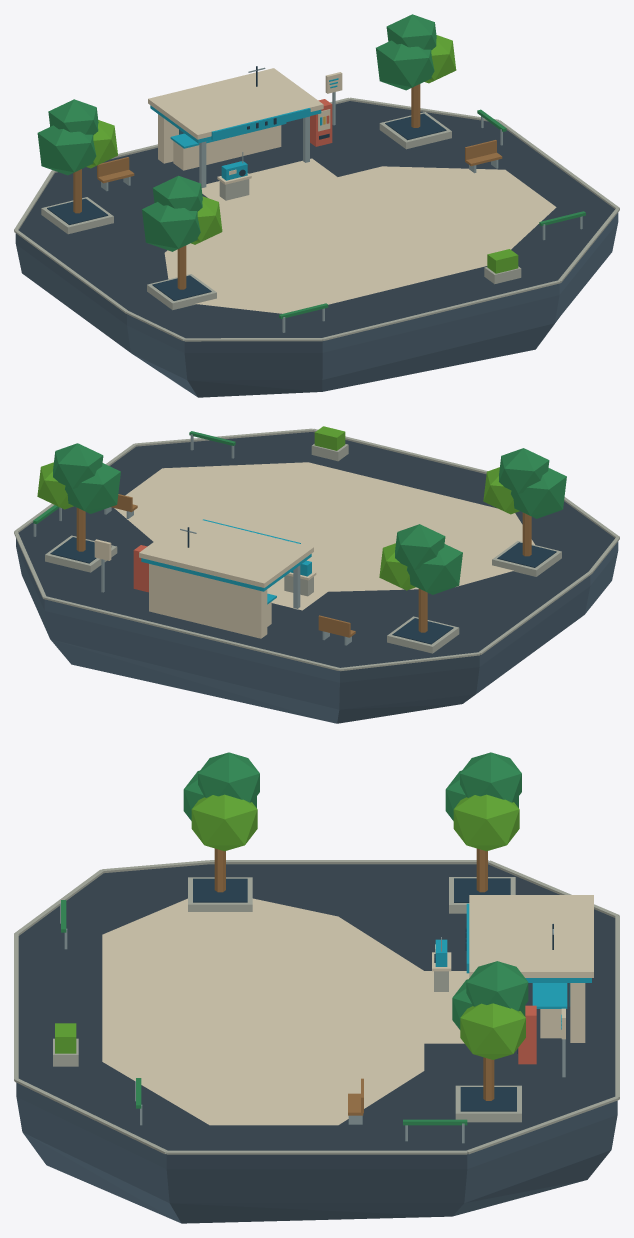
File: fi01-corner-park.glb
3 views of the same model, one above another, from view 1: azimuth 30°, elevation 25°; view 2: azimuth 150°, elevation 25°; view 3: azimuth 270°, elevation 25° (orthographic). The views are drawn at different scales.
Parts seen in each view (by area): view 1: GEO_foundation, GEO_forecourt, GEO_pavilion, PROP_tree_right, PROP_tree_left, PROP_tree_front, GEO_rim, PROP_radio, PROP_planter_front, GEO_rails, PROP_vendor, PROP_bench_left (+1 smaller); view 2: GEO_foundation, GEO_forecourt, GEO_pavilion, PROP_tree_left, PROP_tree_front, PROP_tree_right, GEO_rim, PROP_planter_front, PROP_radio, PROP_bench_left, GEO_rails, PROP_vendor (+1 smaller); view 3: GEO_foundation, GEO_forecourt, GEO_pavilion, PROP_tree_right, PROP_tree_front, PROP_tree_left, GEO_rim, GEO_rails, PROP_planter_front, PROP_radio, PROP_vendor.
Part boxes in pixels (<box>): GEO_foundation: <box>15,101,618,397</box>; GEO_forecourt: <box>164,158,556,313</box>; GEO_pavilion: <box>148,66,323,187</box>; PROP_tree_right: <box>376,14,456,149</box>; PROP_tree_left: <box>37,99,117,234</box>; PROP_tree_front: <box>142,175,222,310</box>; GEO_rim: <box>14,97,619,341</box>; PROP_radio: <box>217,152,251,200</box>; PROP_planter_front: <box>484,249,521,284</box>; GEO_rails: <box>279,109,585,332</box>; PROP_vendor: <box>310,99,332,146</box>; PROP_bench_left: <box>97,157,134,191</box>; GEO_foundation: <box>16,432,618,723</box>; GEO_forecourt: <box>114,462,534,610</box>; GEO_pavilion: <box>139,516,313,638</box>; PROP_tree_left: <box>379,524,462,653</box>; PROP_tree_front: <box>483,448,566,576</box>; PROP_tree_right: <box>37,443,120,572</box>; GEO_rim: <box>14,428,619,671</box>; PROP_planter_front: <box>311,426,348,461</box>; PROP_radio: <box>284,560,316,596</box>; PROP_bench_left: <box>318,615,355,645</box>; GEO_rails: <box>33,431,235,536</box>; PROP_vendor: <box>133,545,148,592</box>; GEO_foundation: <box>16,864,617,1223</box>; GEO_forecourt: <box>102,898,469,1125</box>; GEO_pavilion: <box>465,895,593,1042</box>; PROP_tree_right: <box>452,961,528,1122</box>; PROP_tree_front: <box>183,752,259,911</box>; PROP_tree_left: <box>445,752,521,913</box>; GEO_rim: <box>14,860,619,1154</box>; GEO_rails: <box>60,900,467,1143</box>; PROP_planter_front: <box>53,1023,78,1066</box>; PROP_radio: <box>432,937,451,991</box>; PROP_vendor: <box>517,1005,536,1064</box>.
Size of the model in its own units: 32.22 by 12.26 by 28.22.
